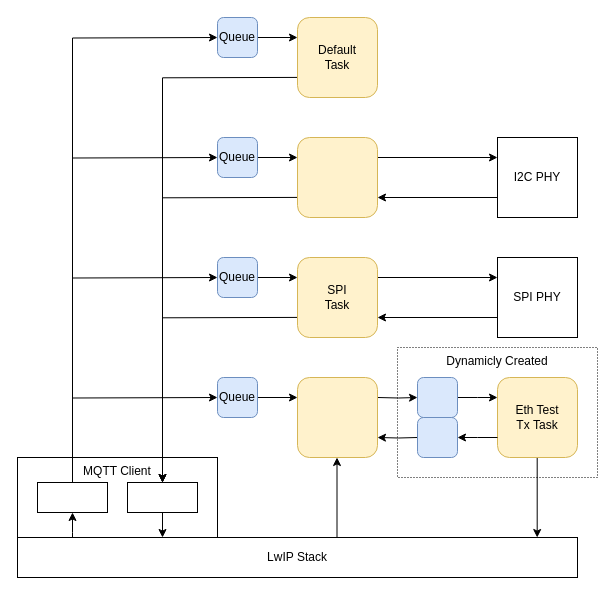
This 615x595 diagram has some shape labels left out. Each missing label, with the centre of its shape:
"Callbacks" belongs at [72,497].
"Data Queue" belongs at [437,397].
"Empty Buffer Queue" belongs at [437,437].
"Eth Test Rx Task" belongs at [337,417].
"I2C Task" belongs at [337,177].
"Publish" belongs at [162,497].
